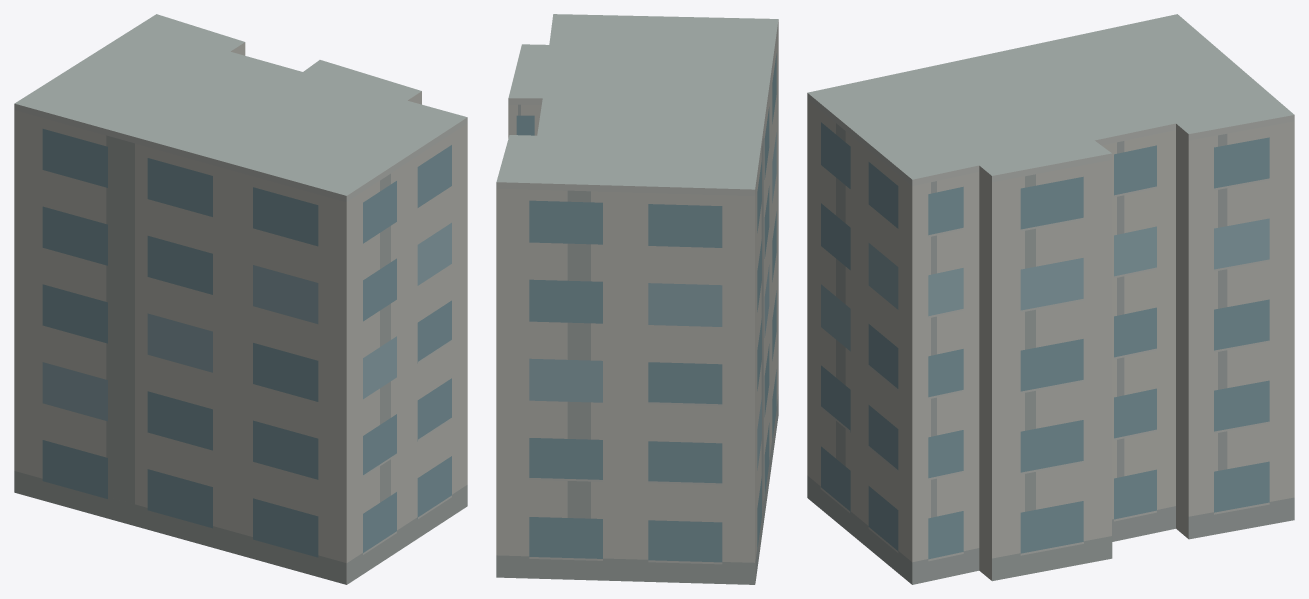
Rendered from survey-upis-32889313.glb.
The picture shows the model from 3 angles, left to right: view 1: azimuth 30°, elevation 25°; view 2: azimuth 150°, elevation 25°; view 3: azimuth 270°, elevation 25°; orthographic projection. The views are drawn at different scales.
Parts seen in each view (by area): view 1: survey-upis-32889313.tmp; view 2: survey-upis-32889313.tmp; view 3: survey-upis-32889313.tmp.
Part boxes in pixels (left/top/right/bottom): survey-upis-32889313.tmp: left=14, top=14, right=467, bottom=584; survey-upis-32889313.tmp: left=496, top=14, right=778, bottom=584; survey-upis-32889313.tmp: left=807, top=14, right=1294, bottom=584.
Size of the model in its own units: 13.16 by 15 by 16.36.
